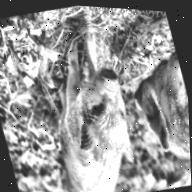boar: (22, 20, 157, 192), (122, 52, 191, 170)
